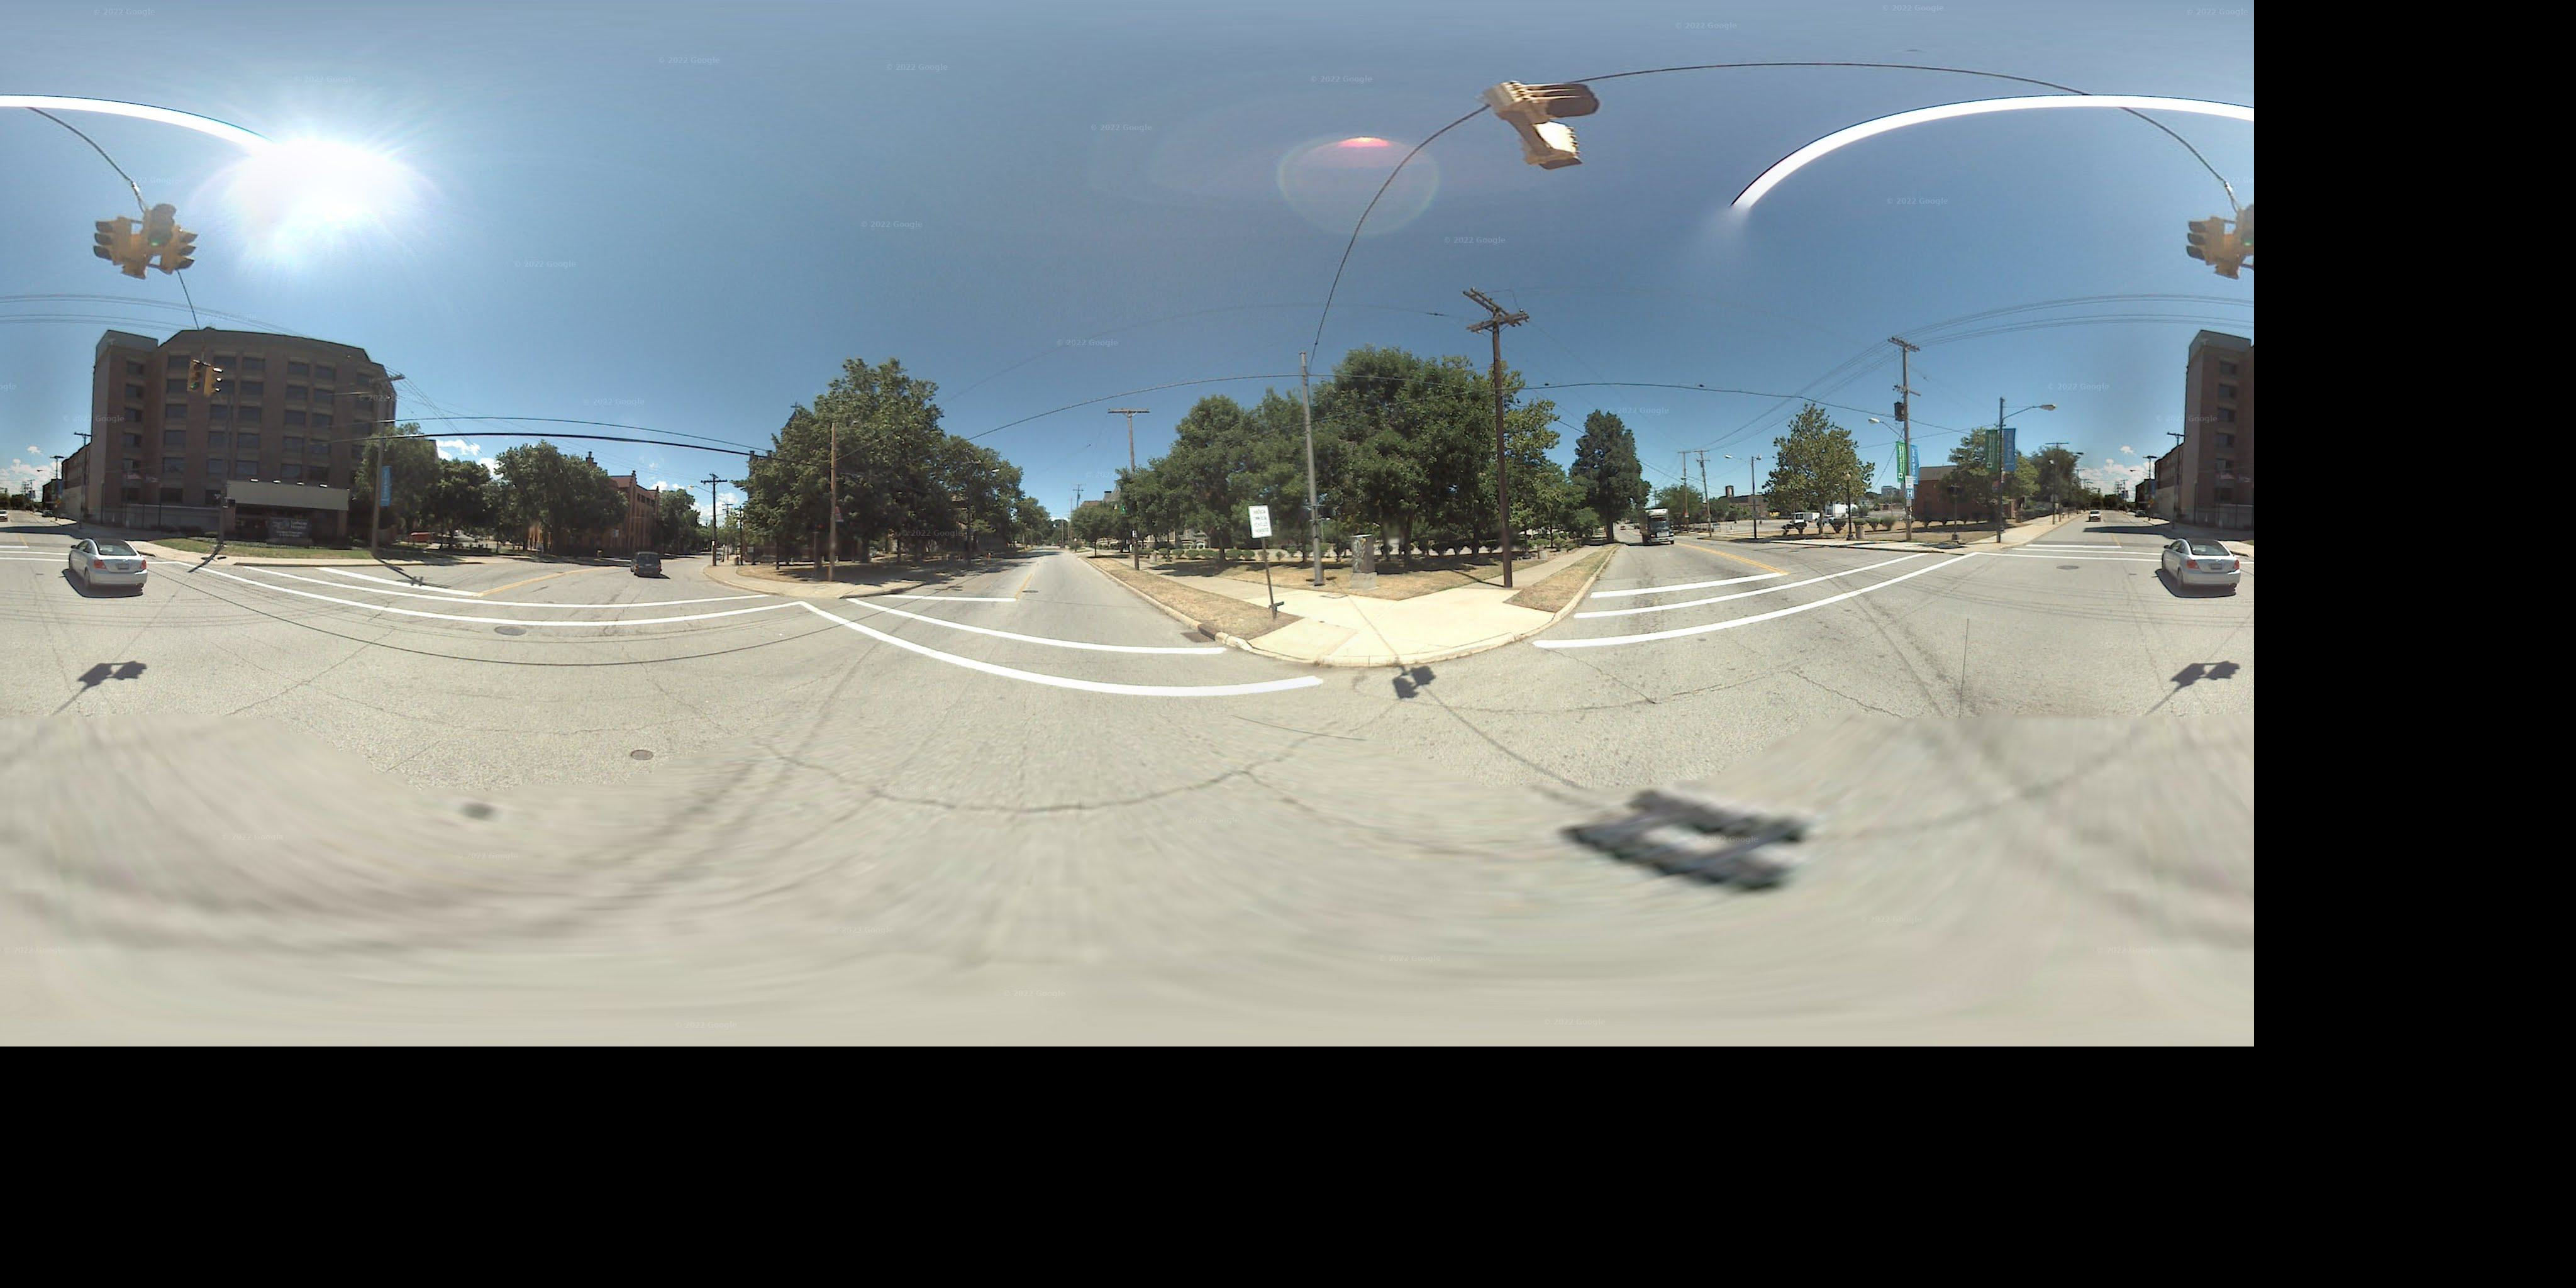Curb Ramp: (1240, 626, 1334, 688), (1500, 605, 1585, 655), (153, 540, 237, 575), (772, 577, 839, 614), (1968, 539, 2011, 559)
